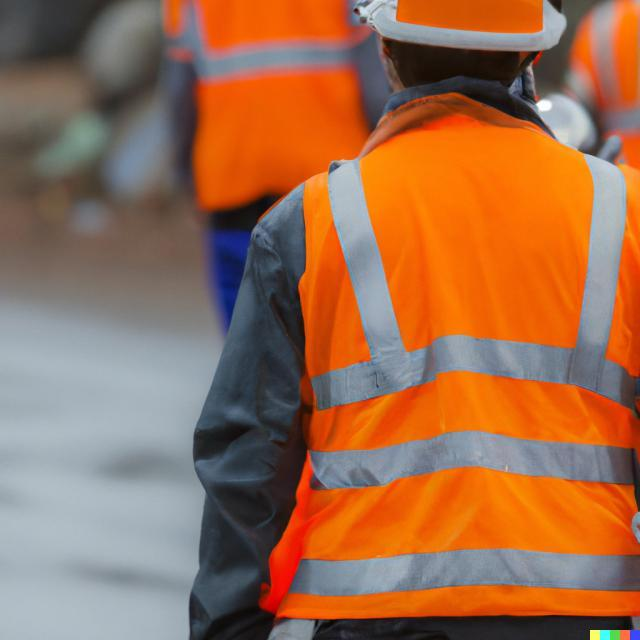Vest: (298, 129, 640, 615)
